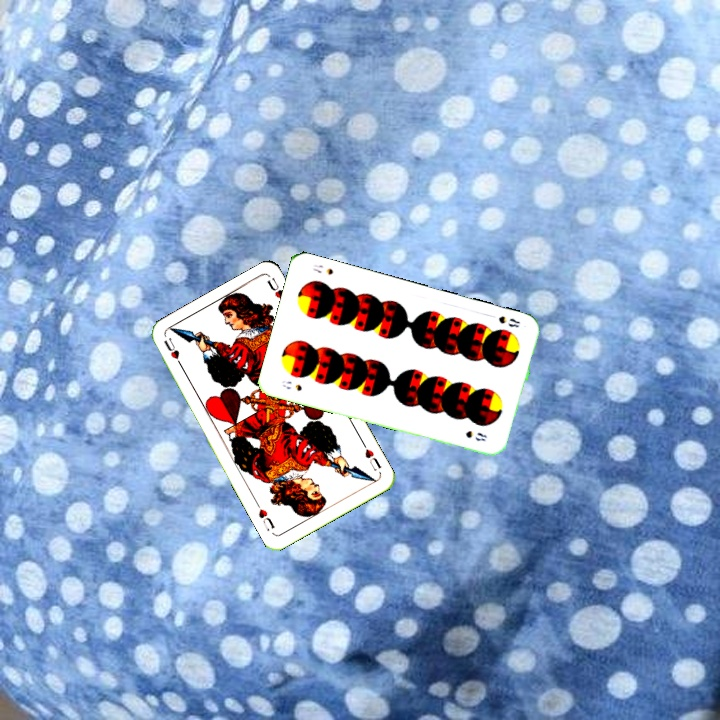HU: (160, 333, 186, 371), (358, 438, 384, 474)
S8: (494, 312, 522, 330), (278, 376, 305, 393)
